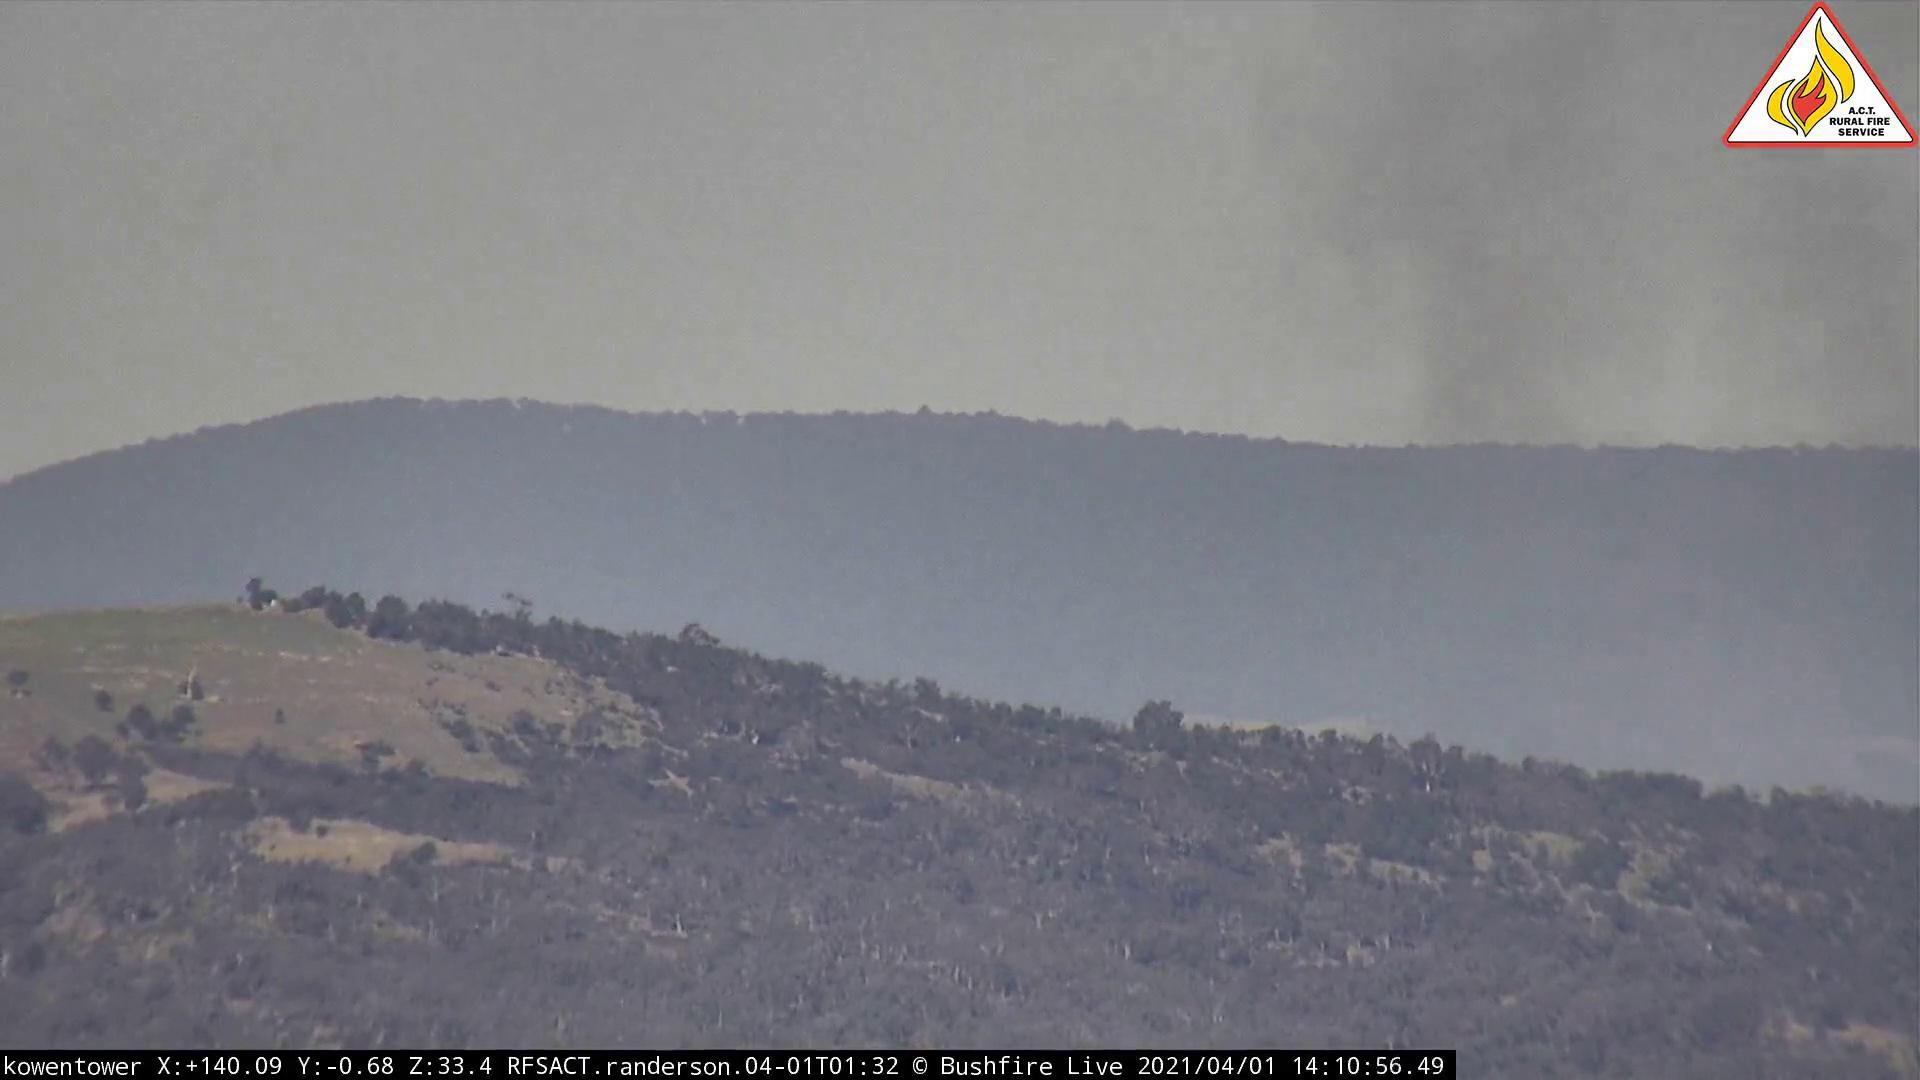Smoke: (1265, 164, 1920, 847)
